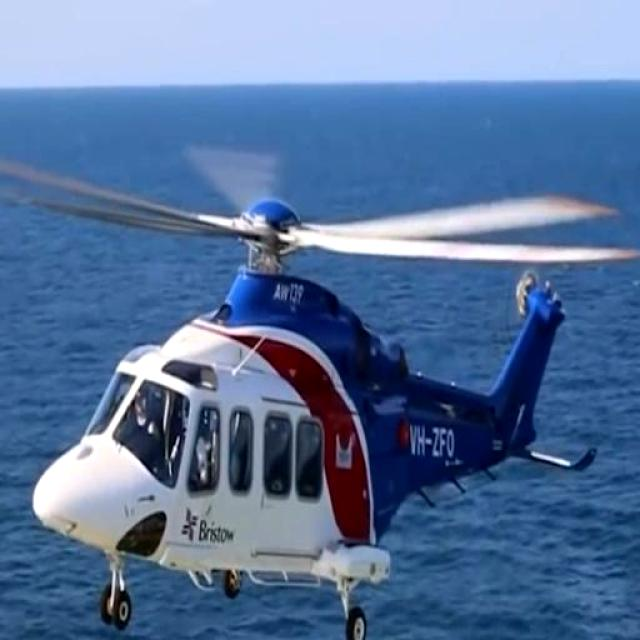drone: (0, 108, 621, 640)
